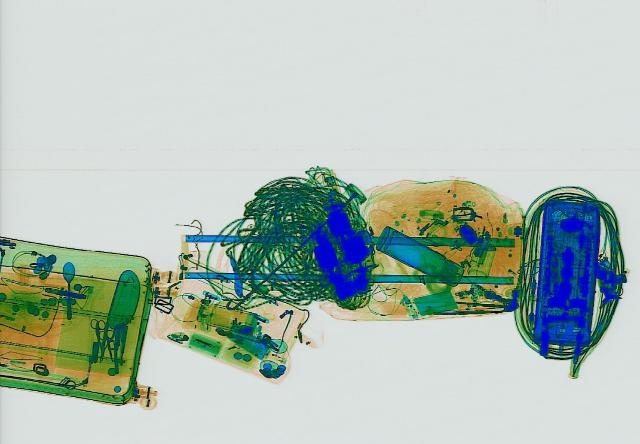Scissors: (87, 317, 107, 362), (96, 329, 120, 362)
